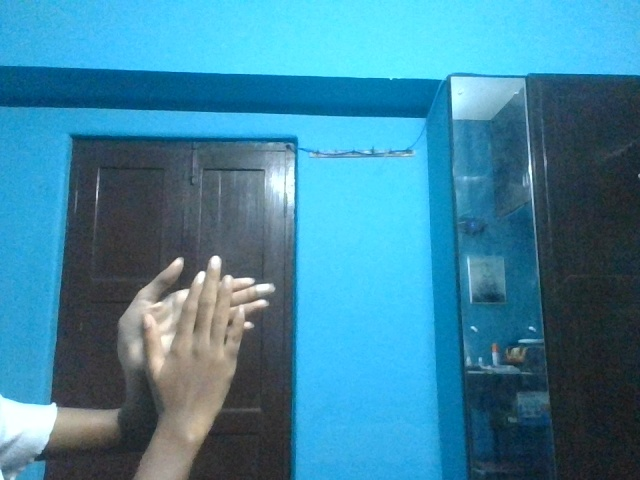H: (109, 251, 280, 423)
